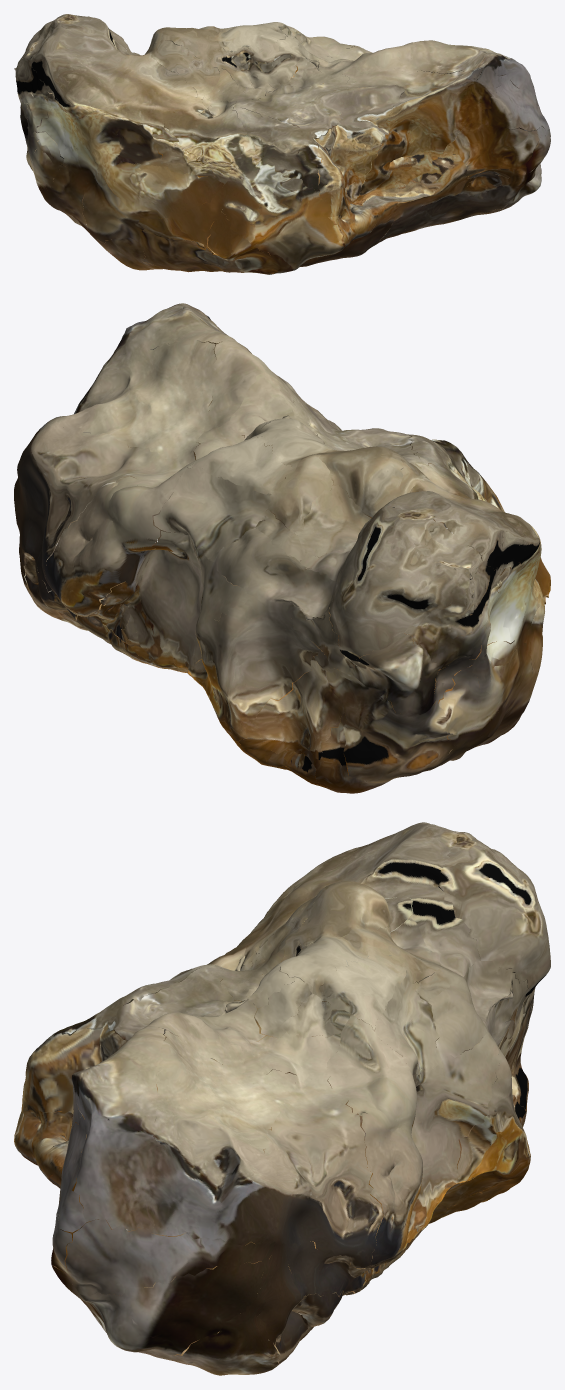
The model's file is possible_stone.glb.
3 views of the same model, one above another, from view 1: azimuth 30°, elevation 25°; view 2: azimuth 150°, elevation 25°; view 3: azimuth 270°, elevation 25° (orthographic). The views are drawn at different scales.
Parts seen in each view (by area): view 1: PossibleStone; view 2: PossibleStone; view 3: PossibleStone.
Boxes of the visible parts, x1=… form: PossibleStone: x1=14, y1=14, x2=550, y2=274; PossibleStone: x1=14, y1=303, x2=550, y2=793; PossibleStone: x1=14, y1=822, x2=550, y2=1375.
Bounding box in the file's own units: 0.7199 × 0.3452 × 0.5507.
Materials: 1 (1 with a texture image).
